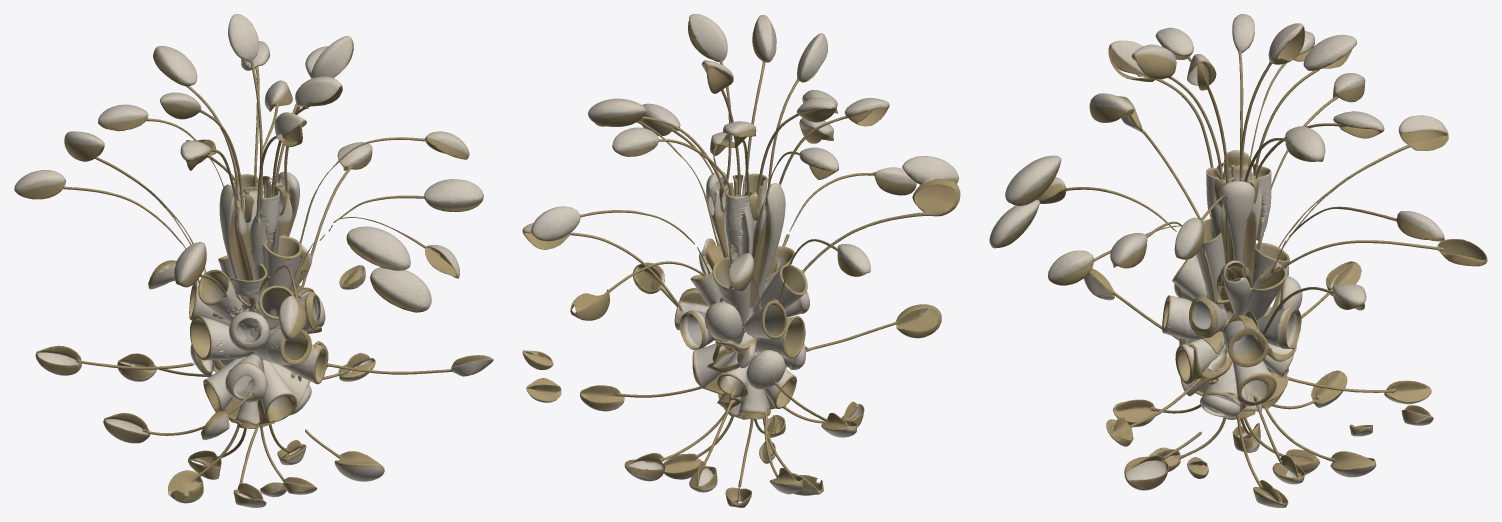
Rendered from space-garden.glb.
The picture shows the model from 3 angles, left to right: view 1: azimuth 30°, elevation 25°; view 2: azimuth 150°, elevation 25°; view 3: azimuth 270°, elevation 25°; orthographic projection. The views are drawn at different scales.
Parts seen in each view (by area): view 1: world; view 2: world; view 3: world.
Part boxes in pixels (<box>): world: <box>14,14,493,507</box>; world: <box>522,14,960,507</box>; world: <box>989,14,1487,507</box>.
Size of the model in its own units: 0.853 by 0.9997 by 0.9664.
Materials: 1 (1 with a texture image).
